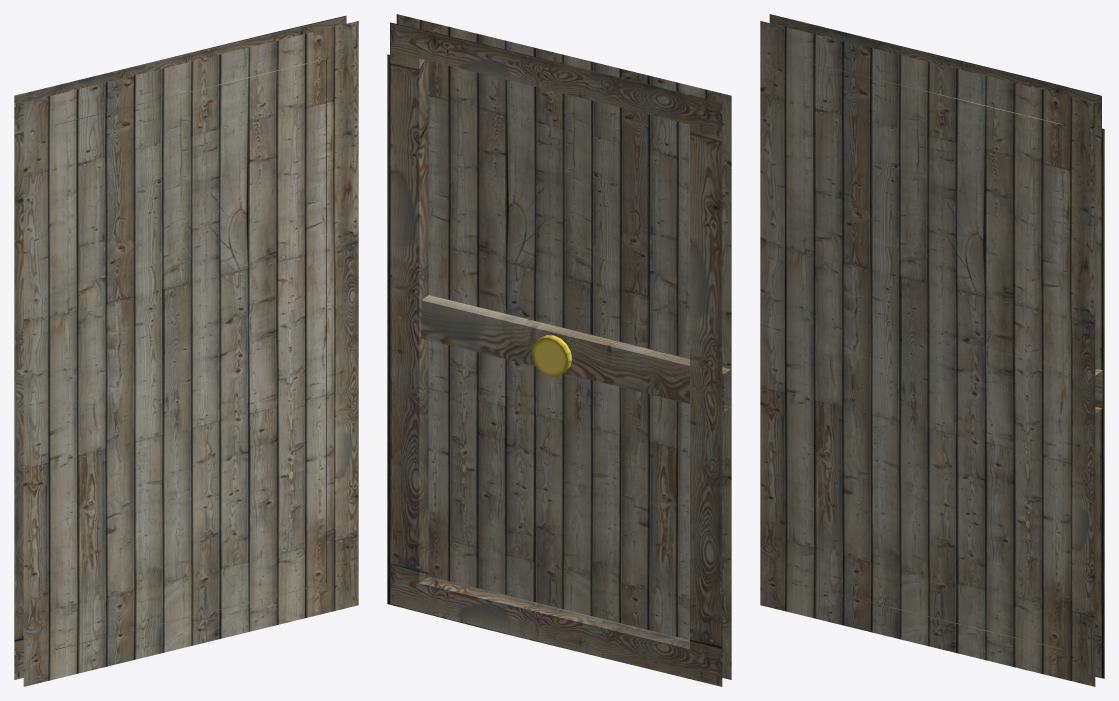
Rendered from DoorS.fbx.
The picture shows the model from 3 angles, left to right: view 1: azimuth 30°, elevation 25°; view 2: azimuth 150°, elevation 25°; view 3: azimuth 330°, elevation 25°; orthographic projection.
Visible parts, largest first — view 1: DoorS; view 2: DoorS; view 3: DoorS.
Part boxes in pixels (x1,y1,x2,y2): DoorS: (14, 15, 358, 686); DoorS: (387, 14, 731, 686); DoorS: (760, 14, 1104, 686).
Size of the model in its own units: 120 by 9.12 by 200.
